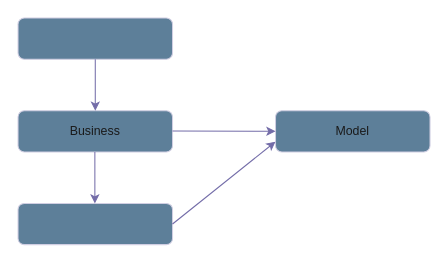
This 448x263 diagram has some shape labels left out. The centre of each missing label's shape, as x and y in pixels:
"Data" goes at (95,223).
"Presentation" goes at (95,38).
